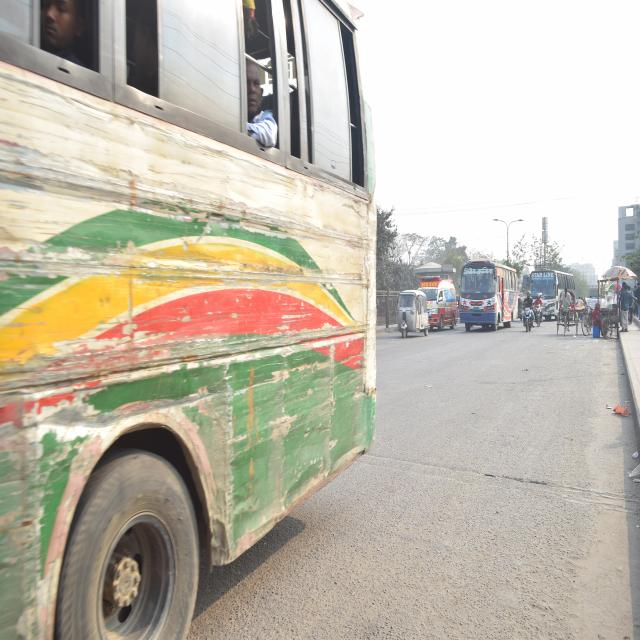bus: (0, 0, 383, 640), (459, 256, 519, 341), (530, 267, 576, 318)
microbus: (419, 279, 456, 329)
motorbike: (522, 298, 534, 332), (534, 296, 546, 326)
